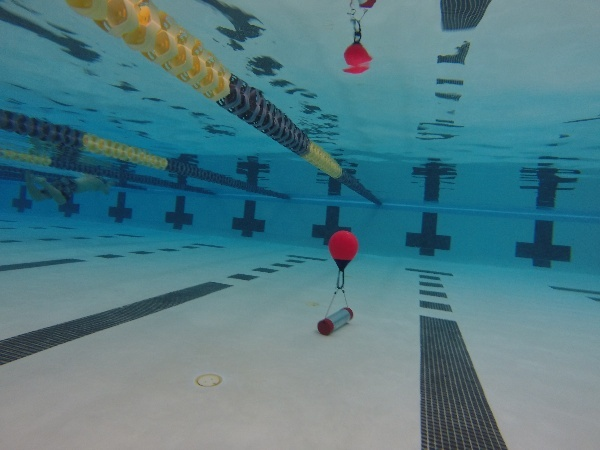buoy_red: (326, 227, 359, 275)
